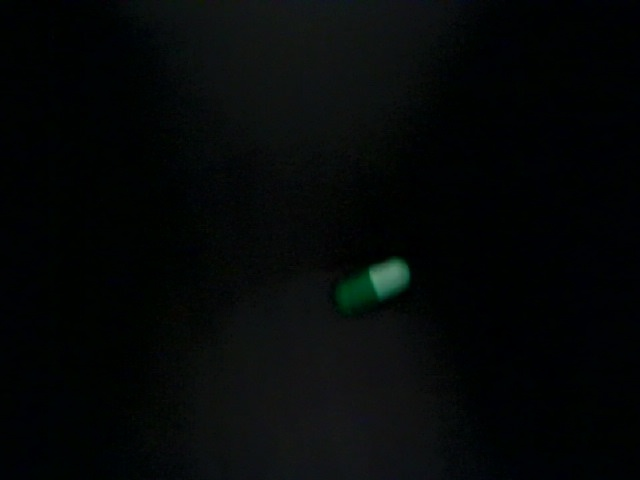YHLJ: (135, 334, 438, 440)
